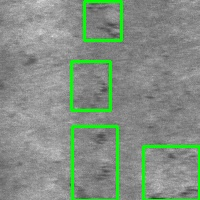rolled-in_scale: (72, 126, 117, 200), (143, 146, 199, 200), (71, 61, 110, 110), (85, 1, 122, 40)
